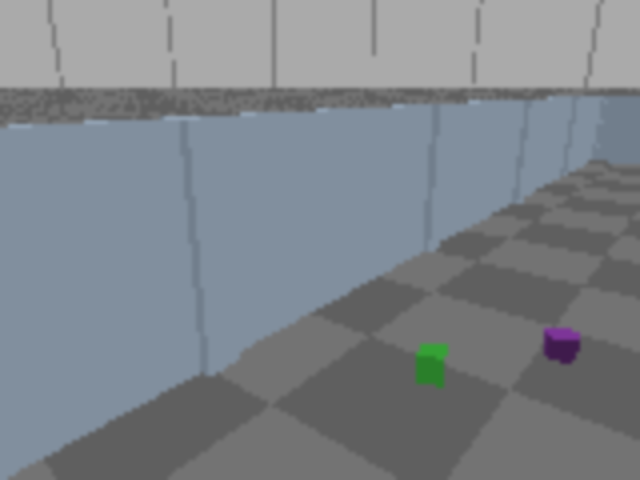puck: (415, 342, 447, 387), (543, 327, 581, 362)
